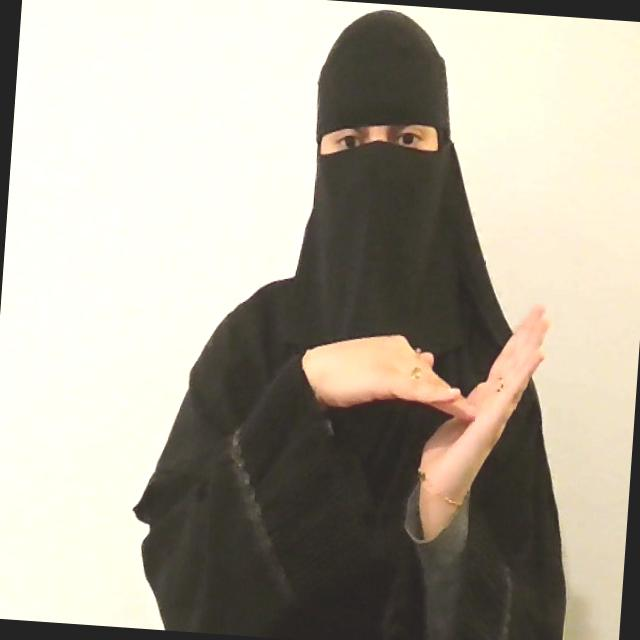complaint: (296, 283, 556, 511)
